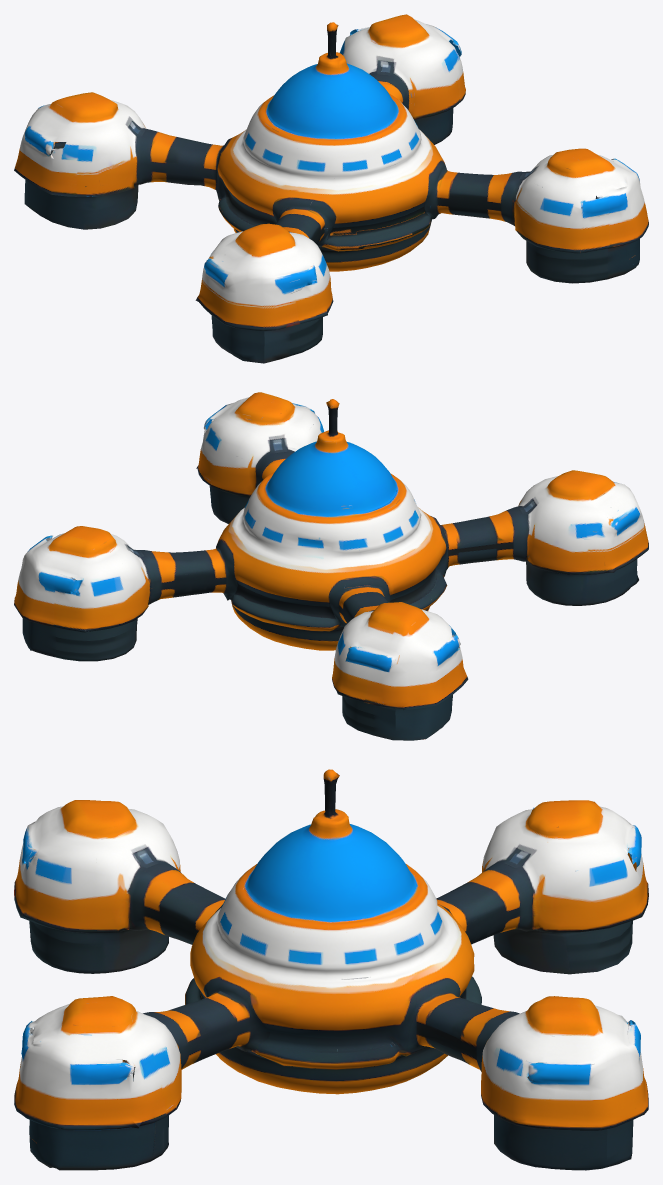
File: Meshy_AI_Quadro_Orbiter_0709062027_texture.glb
3 renders of one model, top to bottom at view 1: azimuth 30°, elevation 25°; view 2: azimuth 150°, elevation 25°; view 3: azimuth 270°, elevation 25°, orthographic. The views are drawn at different scales.
Size of the model in its own units: 1.92 by 0.9452 by 1.92.
1 material, 1 textured.
